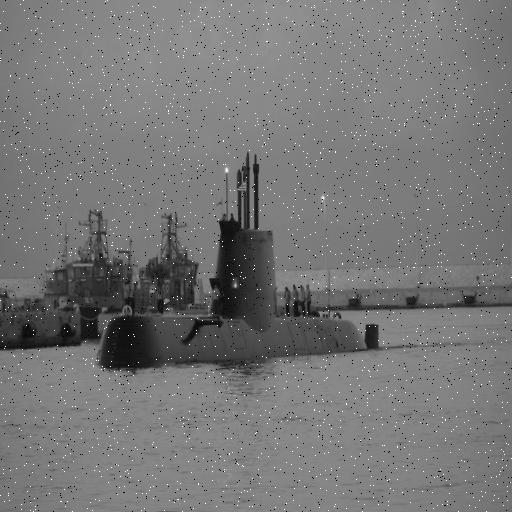submarine: (100, 149, 384, 373)
